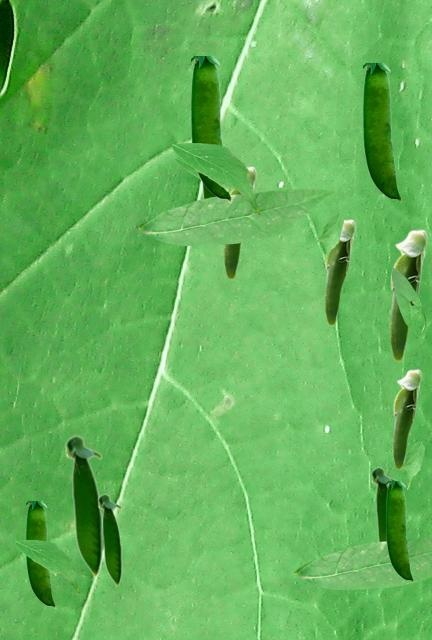pea: (191, 56, 230, 201), (64, 434, 102, 579), (363, 63, 400, 201), (389, 229, 427, 361), (223, 166, 256, 279), (324, 219, 355, 325), (26, 501, 54, 607), (392, 369, 421, 469), (386, 481, 412, 581), (97, 493, 121, 587), (370, 466, 397, 540), (201, 182, 212, 197)
